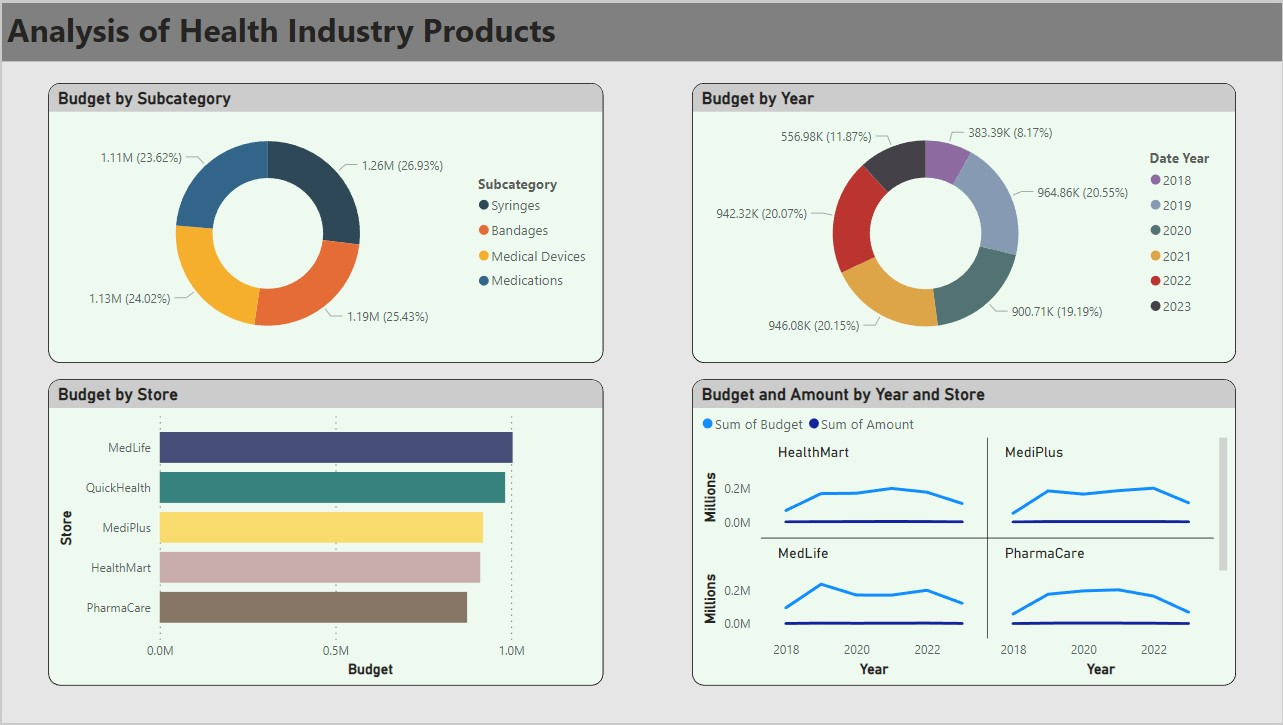

Layout of this report page (visuals, bound fields, positions):
{"tool":"powerbi","page":{"name":"Page 2","canvas":[1280,720],"ordinal":1},"visuals":[{"type":"donutChart","title":"Budget by Year","fields":{"Category":["expenses_table.Date.Variation.Date Hierarchy.Year"],"Y":["Sum(expenses_table.Budget)"]},"box":[690,80,543.8,280],"z":0},{"type":"clusteredBarChart","title":"Budget by Store","fields":{"Category":["expenses_table.Store"],"Y":["Sum(expenses_table.Budget)"]},"box":[46.2,376.2,555,306.2],"z":1},{"type":"lineChart","title":"Budget and Amount by Year and Store","fields":{"Category":["expenses_table.Date.Variation.Date Hierarchy.Year"],"Y":["Sum(expenses_table.Budget)","Sum(expenses_table.Amount)"],"Rows":["expenses_table.Store"]},"box":[690,376.2,543.8,306.2],"z":2},{"type":"donutChart","title":"Budget by Subcategory","fields":{"Category":["expenses_table.Subcategory"],"Y":["Sum(expenses_table.Budget)"]},"box":[46.2,80,555,280],"z":3},{"type":"textbox","box":[0,0,1280,58.8],"z":4}]}

Visuals, with their boxes in screenshot pixels (x1, y1, x2, y2), scaled from the page's 1280x720 canvas onto the 1283x725 screenshot:
"Budget by Year" donutChart: [left=692, top=81, right=1237, bottom=362]
"Budget by Store" clusteredBarChart: [left=46, top=379, right=603, bottom=687]
"Budget and Amount by Year and Store" lineChart: [left=692, top=379, right=1237, bottom=687]
"Budget by Subcategory" donutChart: [left=46, top=81, right=603, bottom=362]
textbox: [left=0, top=0, right=1282, bottom=59]
